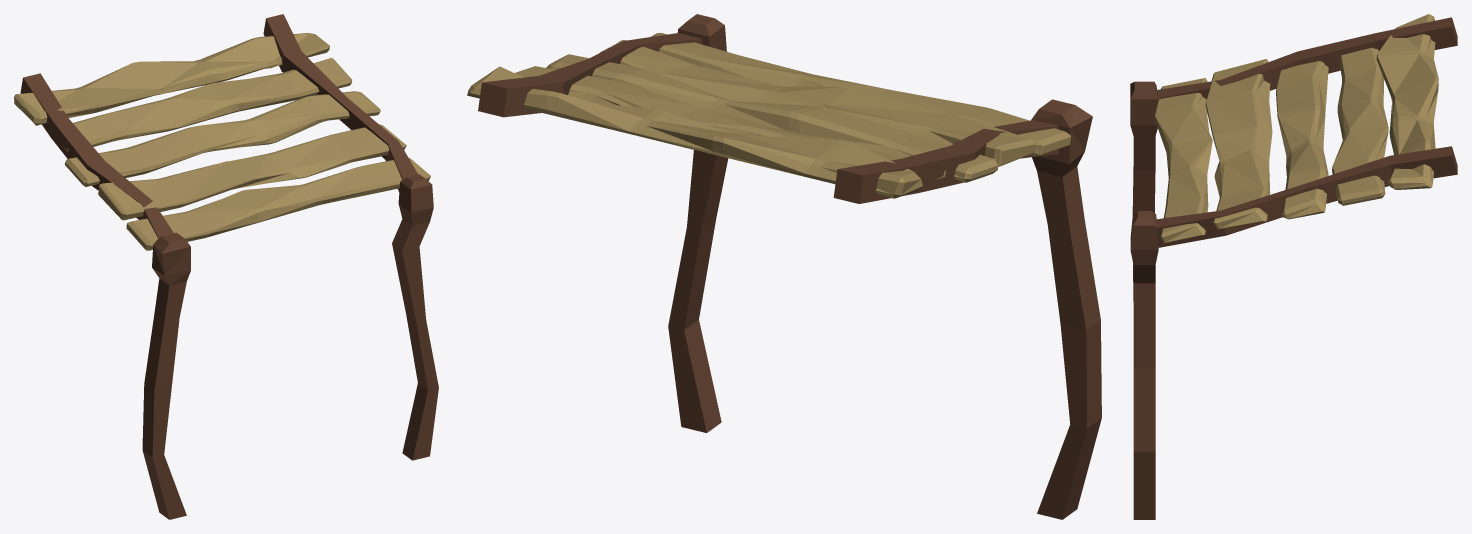
Rendered from Vordach01.fbx.
3 renders of one model, left to right at view 1: azimuth 30°, elevation 25°; view 2: azimuth 150°, elevation 25°; view 3: azimuth 270°, elevation 25°, orthographic. The views are drawn at different scales.
Parts seen in each view (by area): view 1: Vordach01; view 2: Vordach01; view 3: Vordach01.
Part boxes in pixels (x1,y1,x2,y2): Vordach01: (14, 14, 438, 519); Vordach01: (467, 14, 1101, 519); Vordach01: (1130, 14, 1457, 519).
Size of what is drawn, in the model's own units: 494 by 527 by 429.
